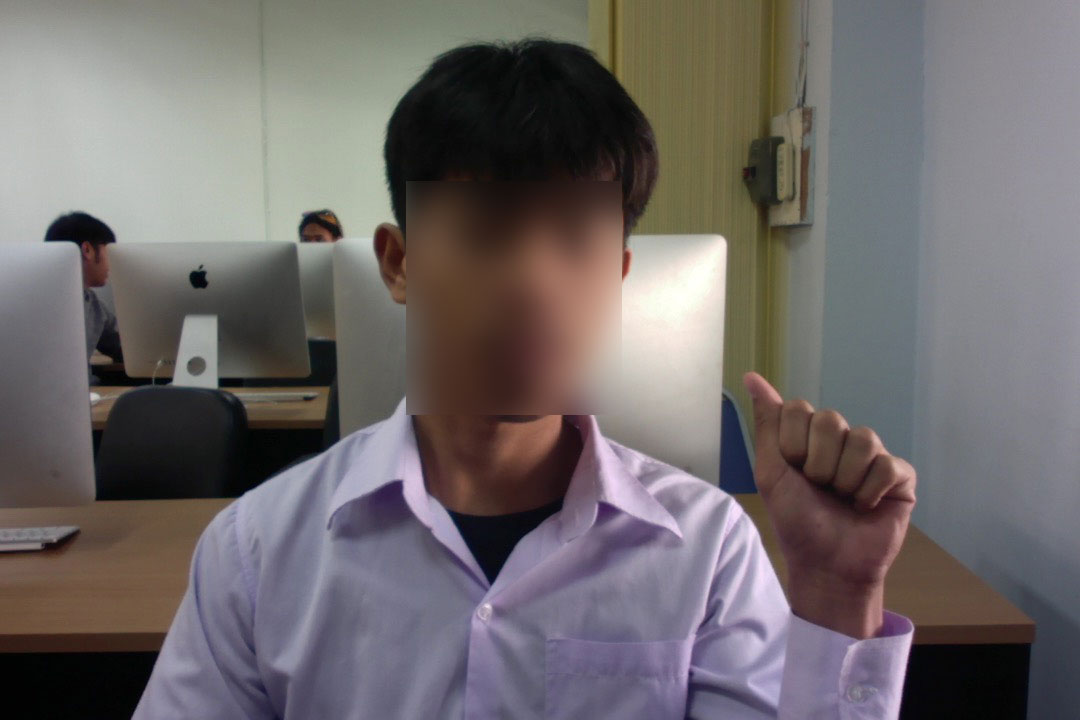or: (735, 360, 924, 626)
